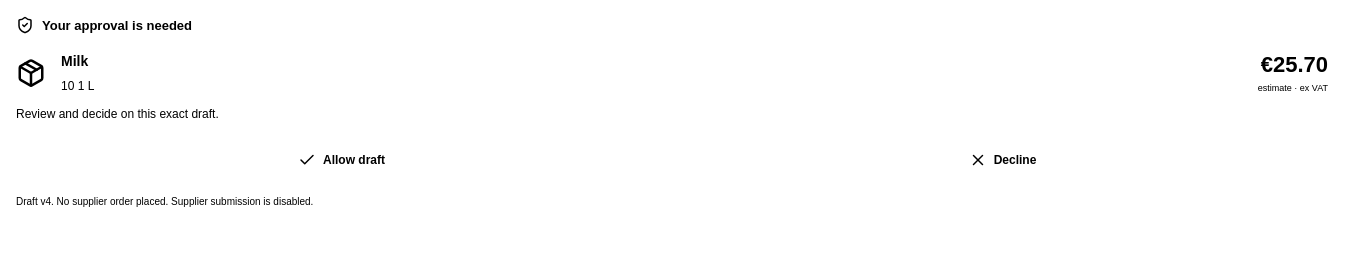
Scenario: inline purchase decisions › refreshes a conflicting revision without approving the replacement
The image size is (1345, 254).
What coordinates should you click on to do the following:
click the button "Allow draft"
I would click on:
 (342, 160)
Its box is [16,139,667,181].
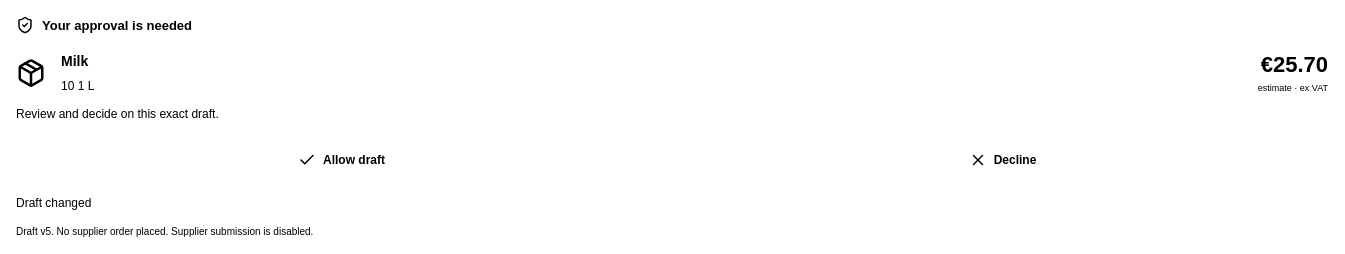
Result: the text "Draft changed" is shown at [16,196,91,210]
Result: the text "Draft v5" is shown at [16,226,57,237]
